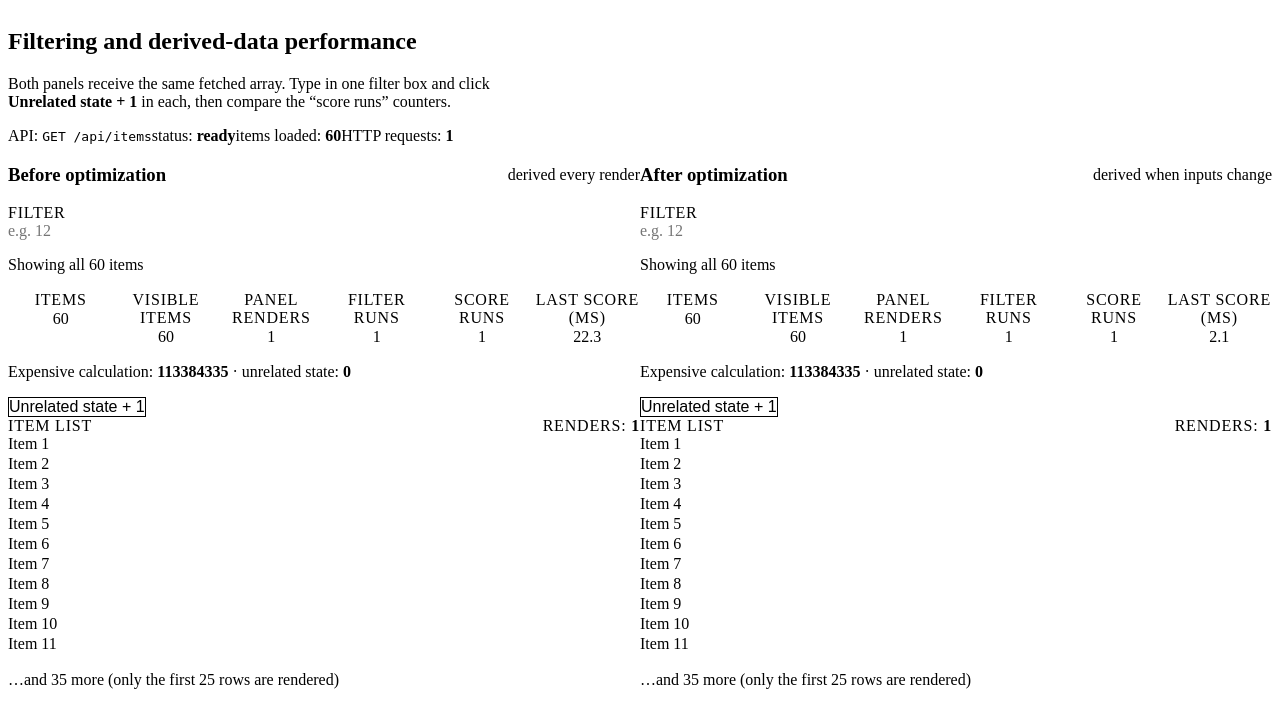
filtering › clears the filter from the clear button and restores the full list
Type "12" into the field with test id "after-filter" at (956, 231), box top-left (640, 222), bottom-right (1272, 240)
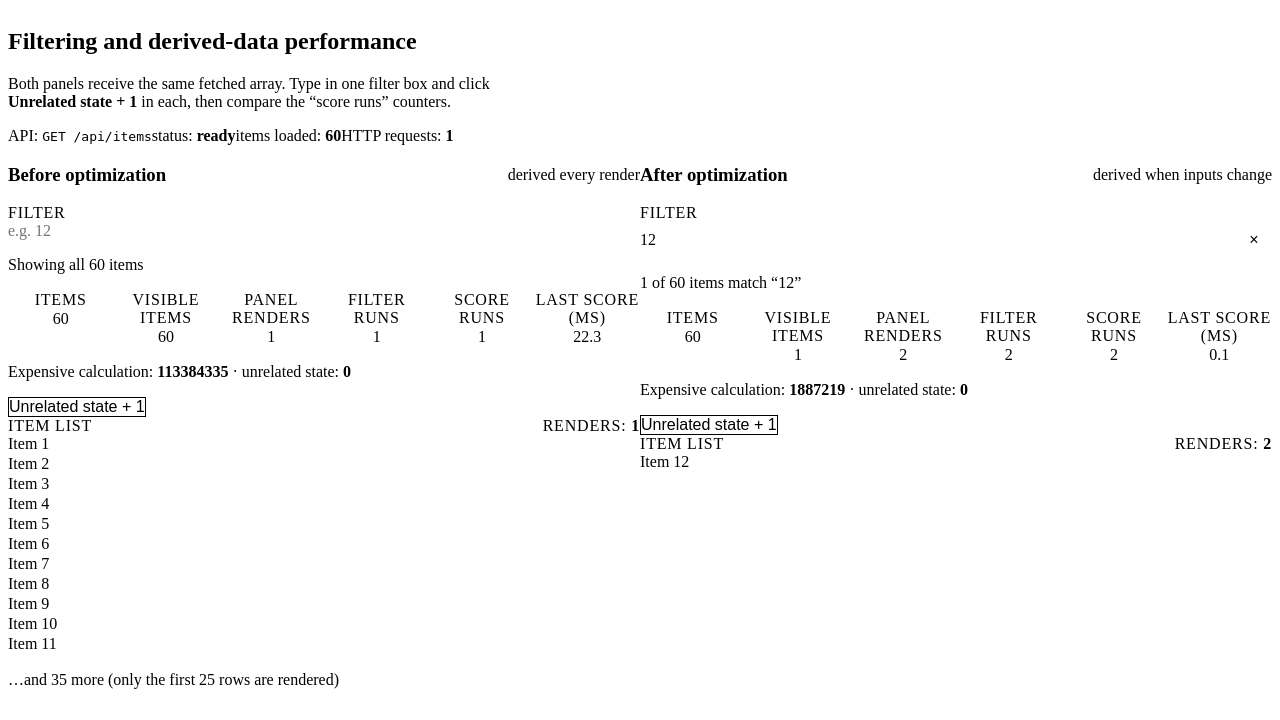
Click the button with test id "after-clear" at (1254, 240), box top-left (1236, 222), bottom-right (1272, 258)
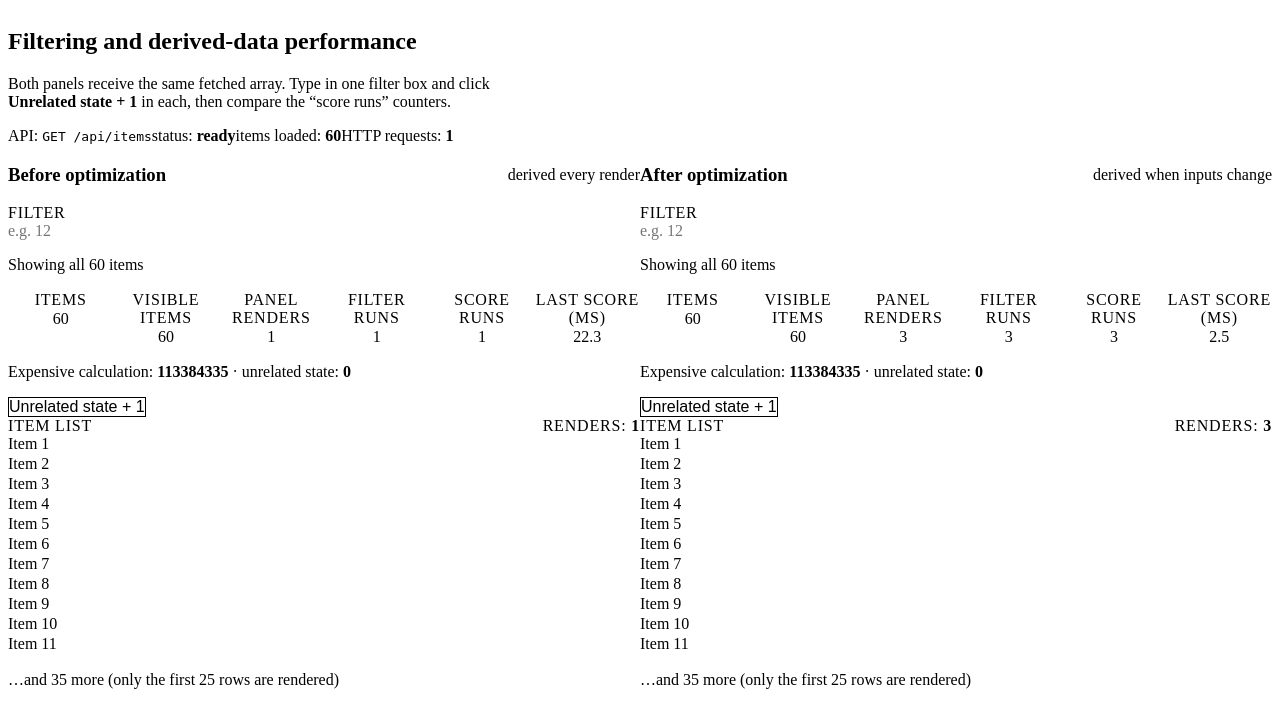
Expected: the button with test id "after-clear" is gone
